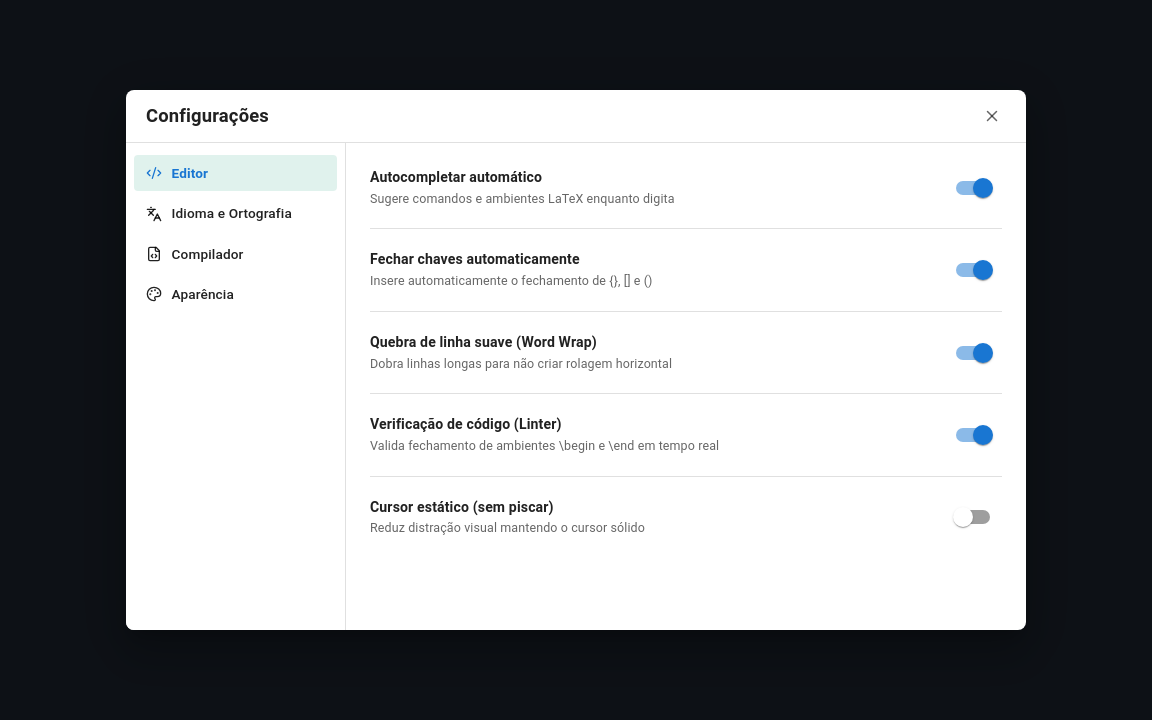
it: SettingsModal Component › should switch to appearance tab and display appearance options
This screenshot has width=1152, height=720.
Click the button "Aparência": (236, 294) x1=134 y1=276 x2=337 y2=313
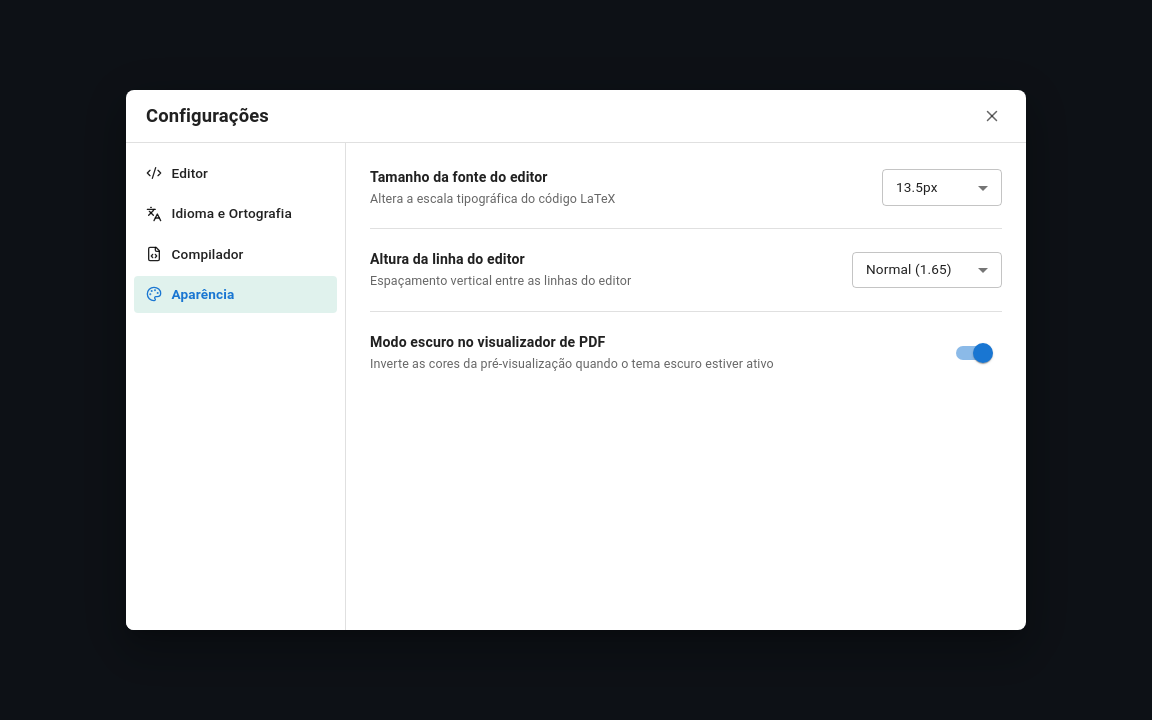
Result: the text "Tamanho da fonte do editor" is shown at x1=370 y1=169 x2=548 y2=185
Result: the text "Altura da linha do editor" is shown at x1=370 y1=251 x2=525 y2=267
Result: the text "Modo escuro no visualizador de PDF" is shown at x1=370 y1=334 x2=605 y2=350
